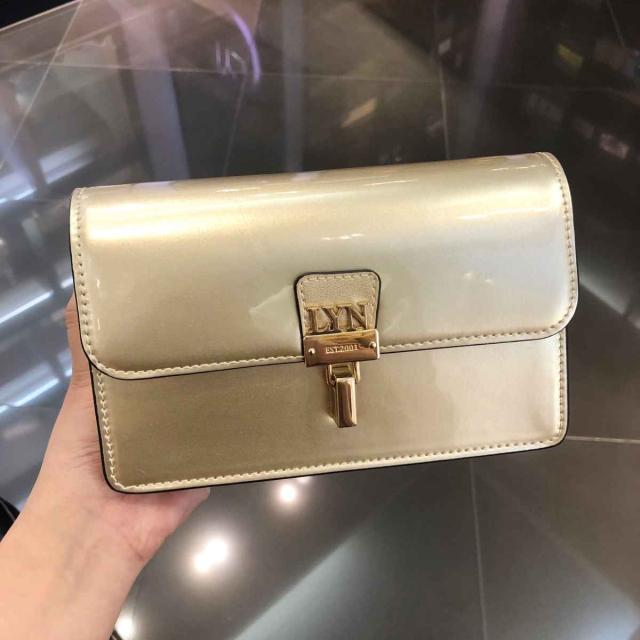Handbag: (65, 151, 579, 494)
